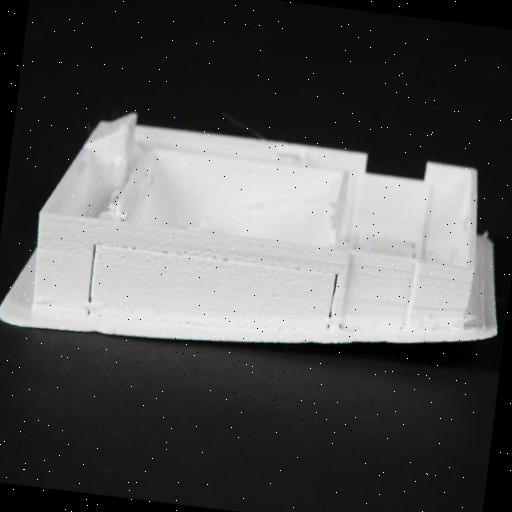cracks: (319, 266, 348, 336), (82, 235, 105, 322)
